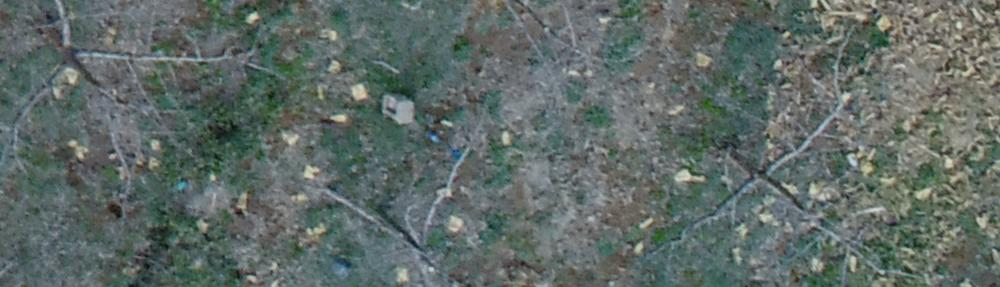apple: (668, 65, 903, 277), (10, 10, 276, 191), (313, 148, 495, 277), (368, 10, 613, 76)
